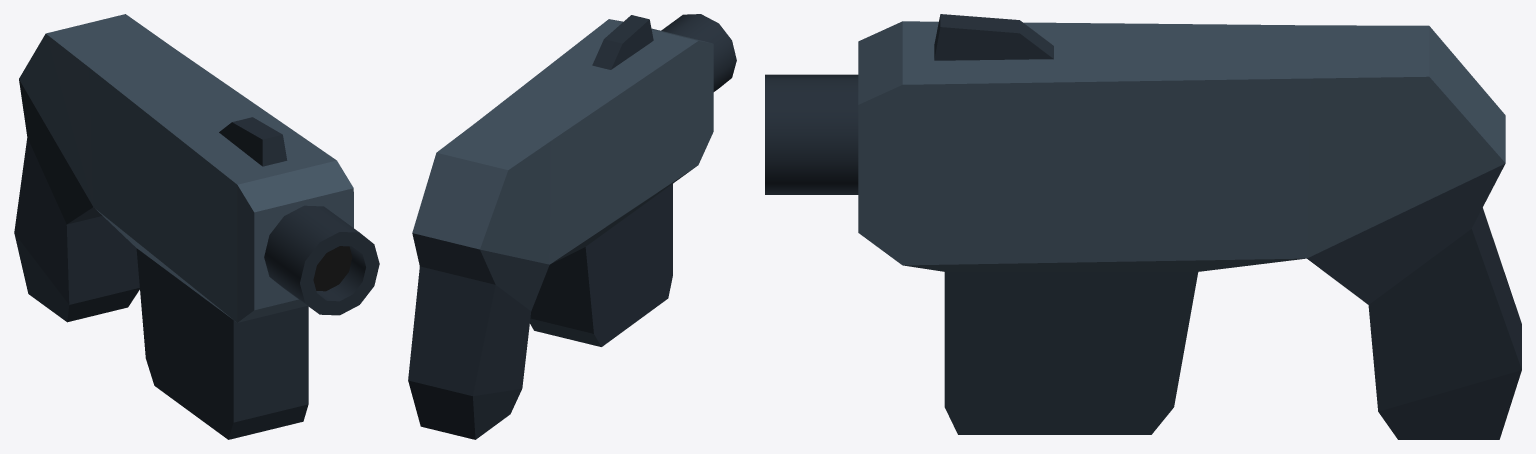
The model's file is pistol.fbx.
3 views of the same model, side by side, from view 1: azimuth 30°, elevation 25°; view 2: azimuth 150°, elevation 25°; view 3: azimuth 270°, elevation 25° (orthographic). The views are drawn at different scales.
Visible parts, largest first — view 1: pistol; view 2: pistol; view 3: pistol.
Part boxes in pixels (x1,y1,x2,y2): pistol: [14, 14, 379, 439]; pistol: [408, 14, 736, 439]; pistol: [765, 14, 1521, 439].
Size of the model in its own units: 12.7 by 37.27 by 63.92.
